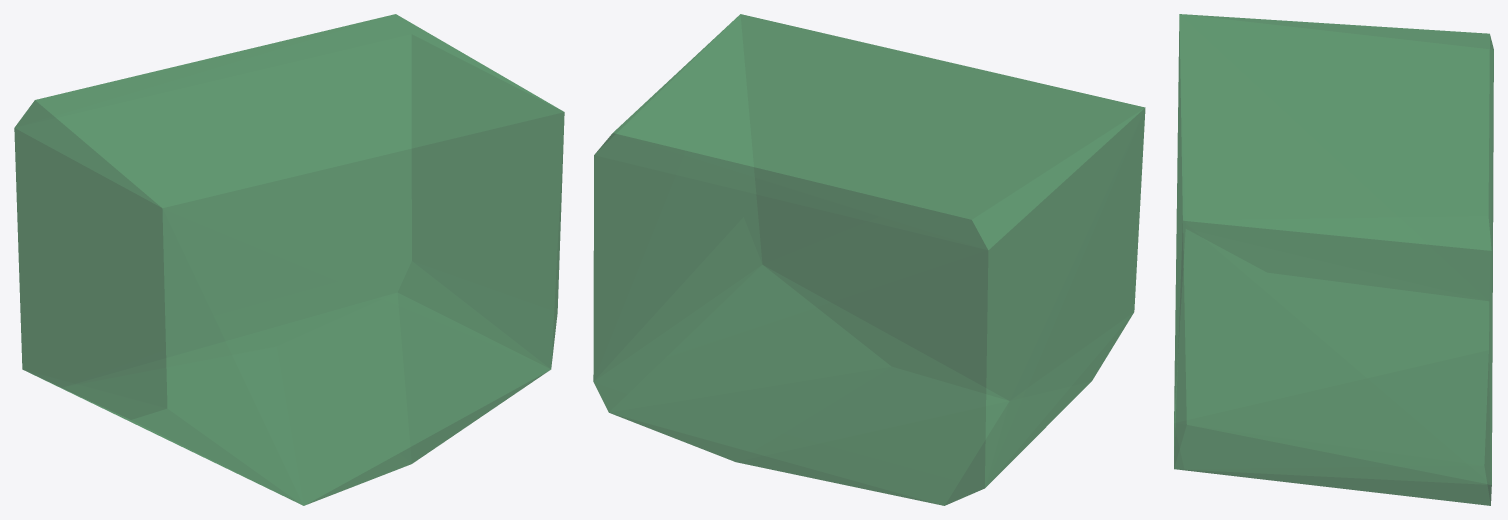
3 renders of one model, left to right at view 1: azimuth 30°, elevation 25°; view 2: azimuth 150°, elevation 25°; view 3: azimuth 270°, elevation 25°, orthographic. The views are drawn at different scales.
Visible parts, largest first — view 1: Shape_IndexedFaceSet.008_Shape_IndexedFaceSet.15112; view 2: Shape_IndexedFaceSet.008_Shape_IndexedFaceSet.15112; view 3: Shape_IndexedFaceSet.008_Shape_IndexedFaceSet.15112.
Boxes of the visible parts, x1=… form: Shape_IndexedFaceSet.008_Shape_IndexedFaceSet.15112: x1=14, y1=14, x2=564, y2=505; Shape_IndexedFaceSet.008_Shape_IndexedFaceSet.15112: x1=593, y1=14, x2=1145, y2=505; Shape_IndexedFaceSet.008_Shape_IndexedFaceSet.15112: x1=1174, y1=14, x2=1493, y2=505.
Size of the model in its own units: 0.217 by 0.1693 by 0.1446.
